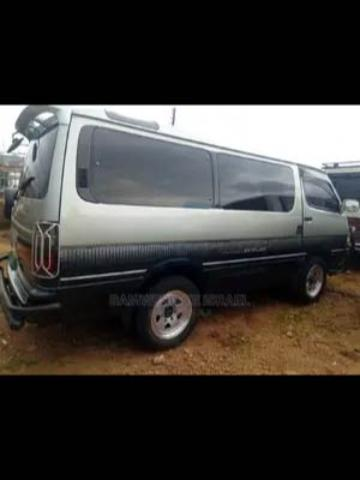van: (0, 106, 347, 346)
